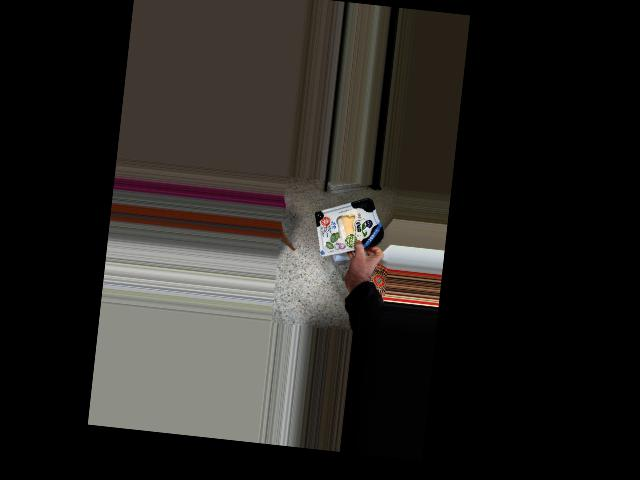cheese: (312, 202, 384, 256)
